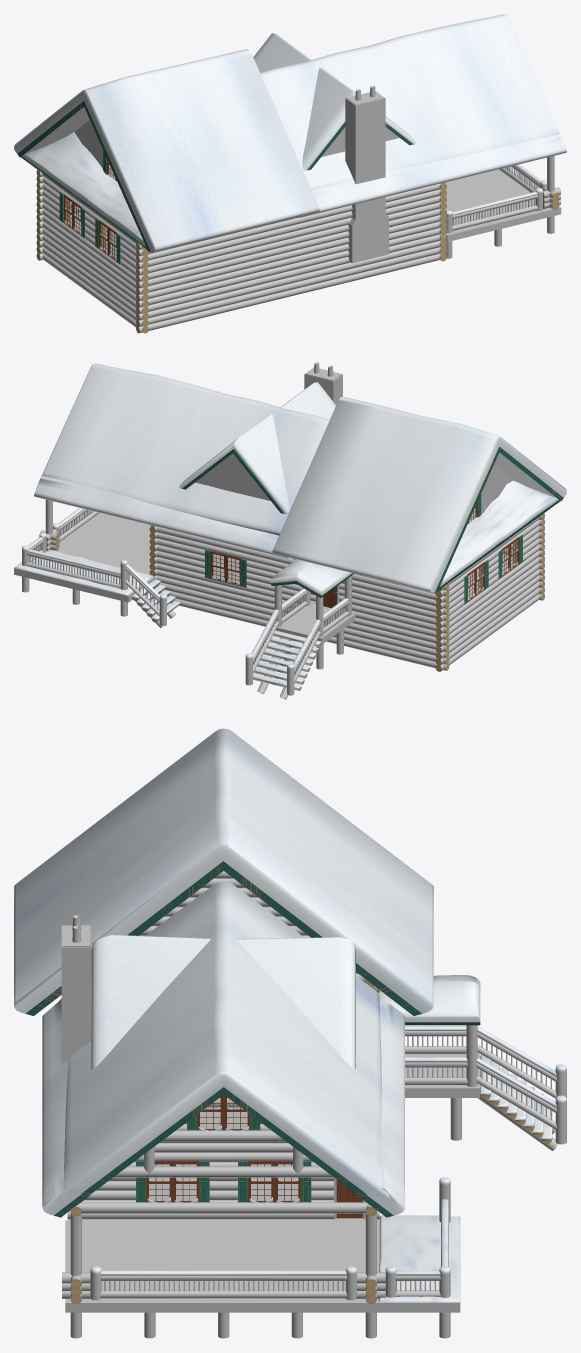
The model's file is cabin.fbx.
The picture shows the model from 3 angles, top to bottom: view 1: azimuth 30°, elevation 25°; view 2: azimuth 150°, elevation 25°; view 3: azimuth 270°, elevation 25°; orthographic projection. The views are drawn at different scales.
Parts seen in each view (by area): view 1: snow, log cabin wall, balcony, fireplace, roof, window front, interior celling.002; view 2: snow, log cabin wall, balcony, front porch, roof, window front, window side, fireplace, interior celling.002, interior floor; view 3: snow, balcony, front porch, log cabin wall, window balcony, roof, fireplace, interior floor.
Part boxes in pixels (<box>): snow: <box>14,14,566,252</box>; log cabin wall: <box>36,170,446,333</box>; balcony: <box>443,156,561,258</box>; fireplace: <box>345,85,388,263</box>; roof: <box>17,101,413,251</box>; window front: <box>59,150,120,264</box>; interior celling.002: <box>74,120,102,168</box>; snow: <box>14,363,566,688</box>; log cabin wall: <box>149,513,544,671</box>; balcony: <box>14,499,180,628</box>; front porch: <box>245,573,355,699</box>; roof: <box>182,447,563,592</box>; window front: <box>464,494,522,604</box>; window side: <box>205,550,246,587</box>; fireplace: <box>304,362,342,404</box>; interior celling.002: <box>481,465,512,514</box>; interior floor: <box>213,554,513,601</box>; snow: <box>14,728,566,1302</box>; balcony: <box>62,1130,460,1338</box>; front porch: <box>405,1022,566,1150</box>; log cabin wall: <box>67,871,379,1219</box>; window balcony: <box>136,1095,311,1202</box>; roof: <box>25,861,421,1217</box>; fireplace: <box>61,915,91,1063</box>; interior floor: <box>149,1107,298,1199</box>.
Bounding box in the file's own units: 2571 × 1279 × 1950.
